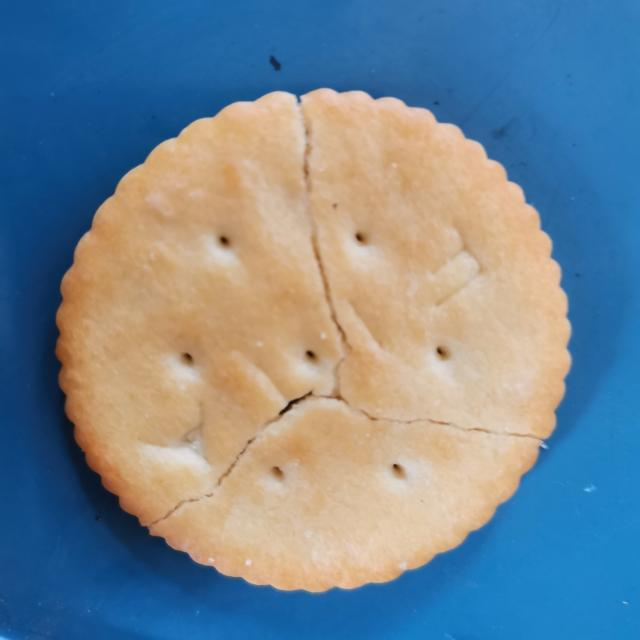Fracture: (135, 90, 554, 538)
